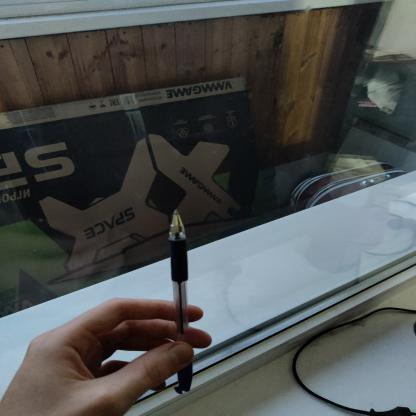pen: (154, 201, 209, 389)
